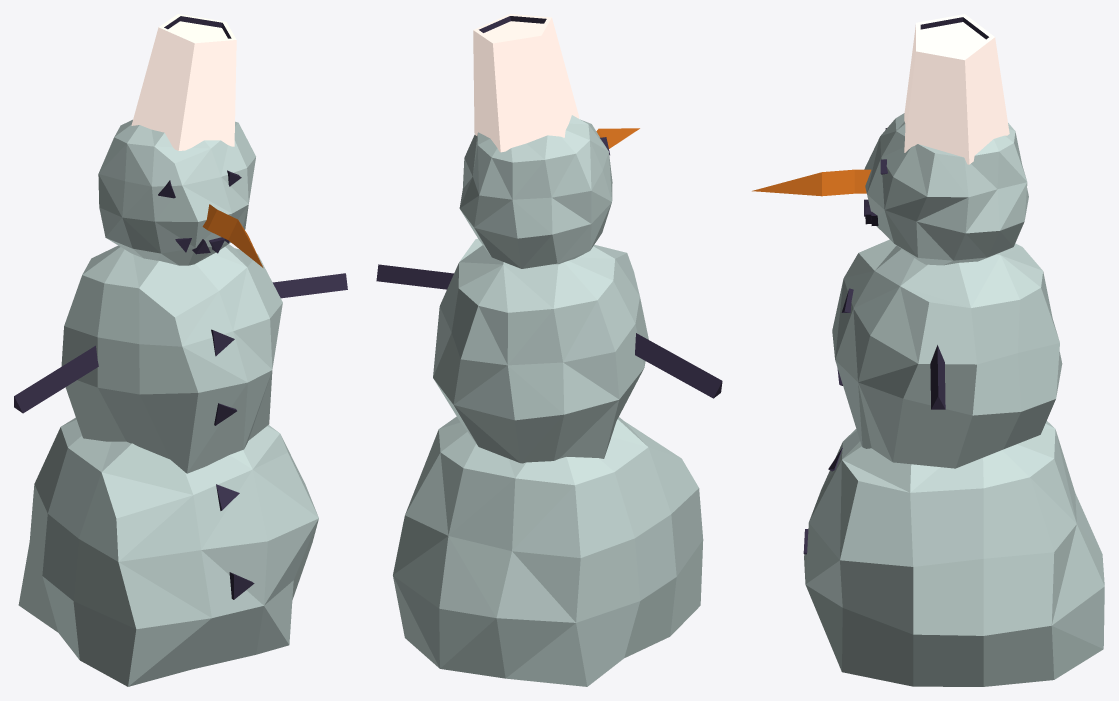
File: snowman_1.fbx
3 views of the same model, side by side, from view 1: azimuth 30°, elevation 25°; view 2: azimuth 150°, elevation 25°; view 3: azimuth 270°, elevation 25° (orthographic). The views are drawn at different scales.
Visible parts, largest first — view 1: Cube, Cube.001, Cube.002, Cylinder.011, Cylinder.012, Cylinder; view 2: Cube, Cube.001, Cube.002, Cylinder.011, Cylinder.012; view 3: Cube, Cube.001, Cube.002, Cylinder.011, Cylinder.
Boxes of the visible parts, x1=… form: Cube: x1=18, y1=417, x2=318, y2=686; Cube.001: x1=61, y1=244, x2=282, y2=473; Cube.002: x1=98, y1=119, x2=255, y2=265; Cylinder.011: x1=131, y1=14, x2=347, y2=298; Cylinder.012: x1=14, y1=345, x2=98, y2=413; Cylinder: x1=202, y1=204, x2=263, y2=267; Cube: x1=393, y1=416, x2=703, y2=686; Cube.001: x1=433, y1=238, x2=648, y2=463; Cube.002: x1=459, y1=115, x2=612, y2=268; Cylinder.011: x1=376, y1=14, x2=579, y2=289; Cylinder.012: x1=635, y1=333, x2=722, y2=398; Cube: x1=804, y1=421, x2=1104, y2=686; Cube.001: x1=832, y1=239, x2=1062, y2=468; Cube.002: x1=864, y1=113, x2=1028, y2=265; Cylinder.011: x1=904, y1=14, x2=1009, y2=409; Cylinder: x1=752, y1=169, x2=871, y2=196.
Bounding box in the file's own units: 132 × 222 × 115.
